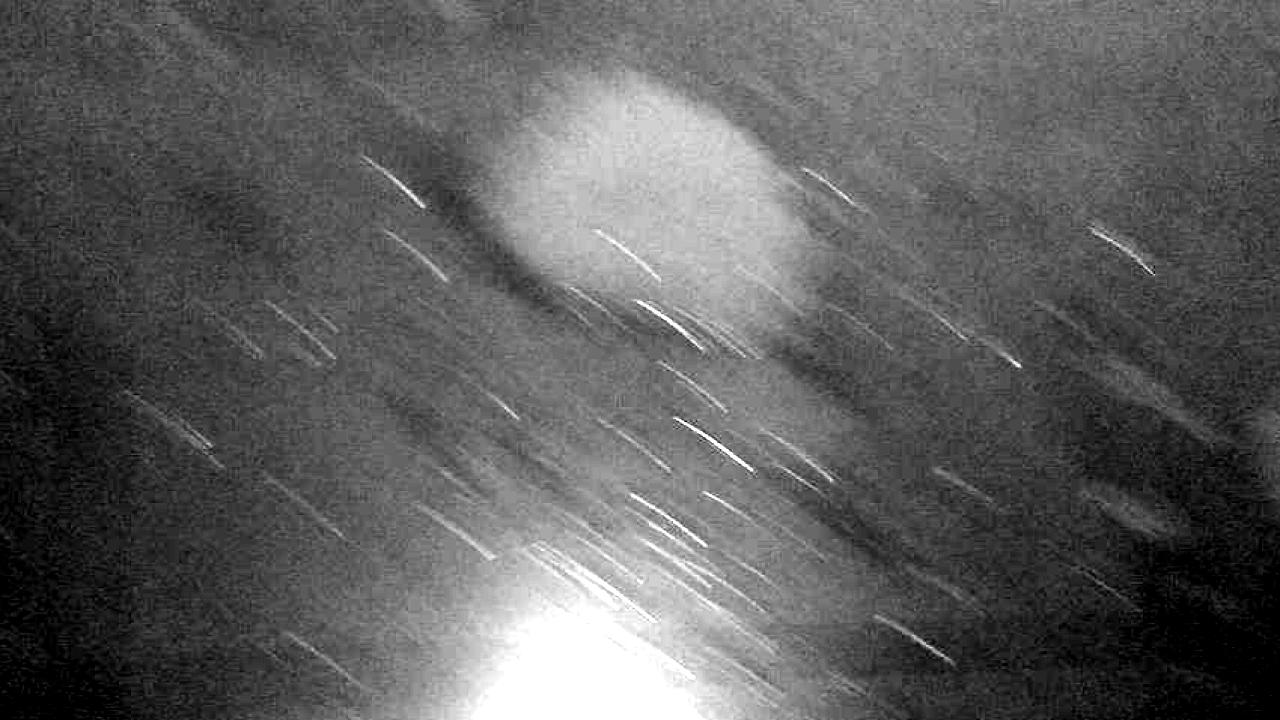drinks Stains: (472, 54, 875, 516)
